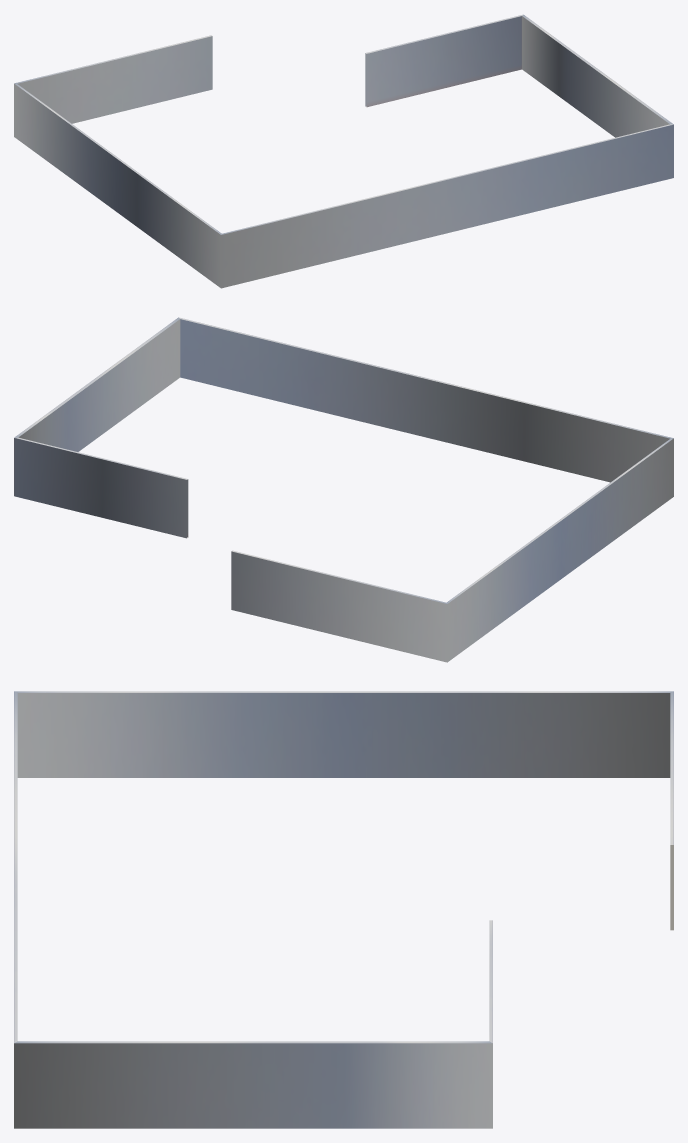
File: CBS_cafe_2F_SideWall_Coll.FBX
The picture shows the model from 3 angles, top to bottom: view 1: azimuth 30°, elevation 25°; view 2: azimuth 150°, elevation 25°; view 3: azimuth 270°, elevation 25°; orthographic projection. The views are drawn at different scales.
Visible parts, largest first — view 1: CBS_cafe_2F_SideWall_Coll; view 2: CBS_cafe_2F_SideWall_Coll; view 3: CBS_cafe_2F_SideWall_Coll.
Boxes of the visible parts, x1=… form: CBS_cafe_2F_SideWall_Coll: x1=14, y1=14, x2=673, y2=288; CBS_cafe_2F_SideWall_Coll: x1=14, y1=317, x2=673, y2=662; CBS_cafe_2F_SideWall_Coll: x1=14, y1=691, x2=673, y2=1128.
Size of the model in its own units: 743 by 83.8 by 589.
